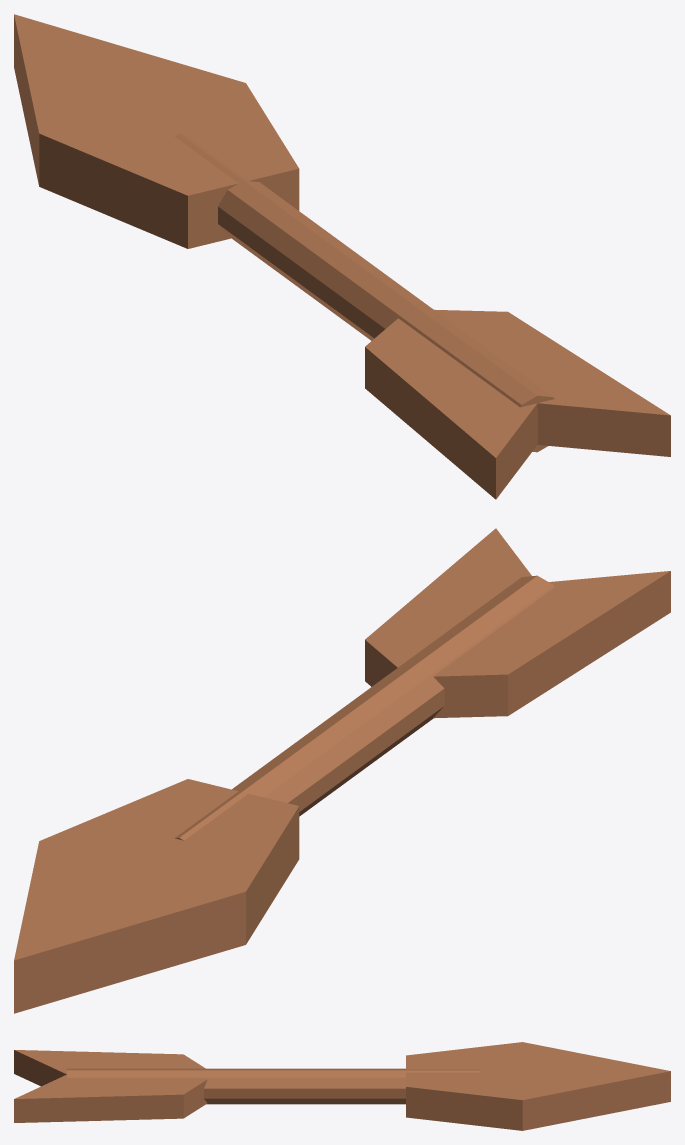
File: SM_WC_BoltGlyph.fbx
3 views of the same model, one above another, from view 1: azimuth 30°, elevation 25°; view 2: azimuth 150°, elevation 25°; view 3: azimuth 270°, elevation 25° (orthographic). The views are drawn at different scales.
Parts seen in each view (by area): view 1: SM_WC_BoltGlyph; view 2: SM_WC_BoltGlyph; view 3: SM_WC_BoltGlyph.
Part boxes in pixels (x1,y1,x2,y2): SM_WC_BoltGlyph: [14, 14, 670, 499]; SM_WC_BoltGlyph: [14, 528, 670, 1013]; SM_WC_BoltGlyph: [14, 1042, 670, 1130].
Size of the model in its own units: 13 by 62 by 3.4.
